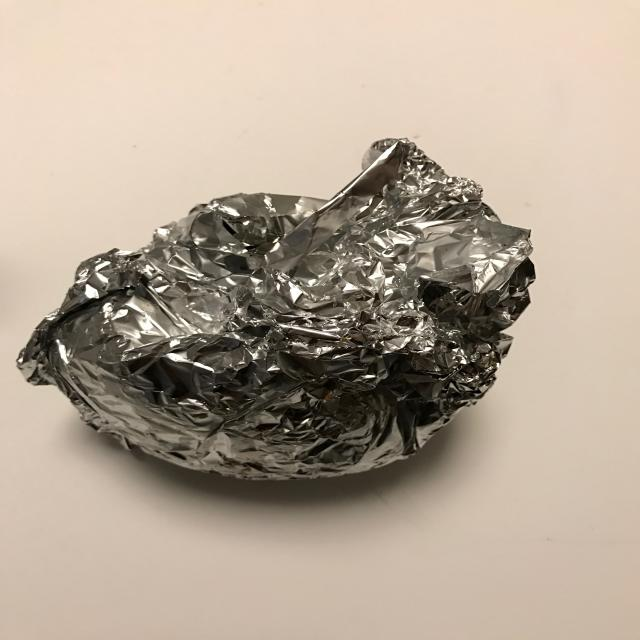metal: (16, 136, 536, 482)
